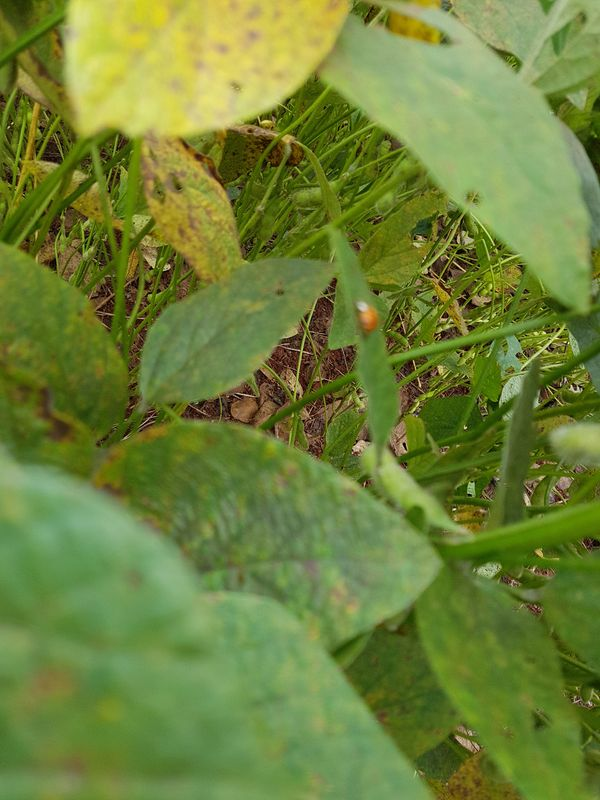Coccinellidae: (344, 294, 391, 345)
